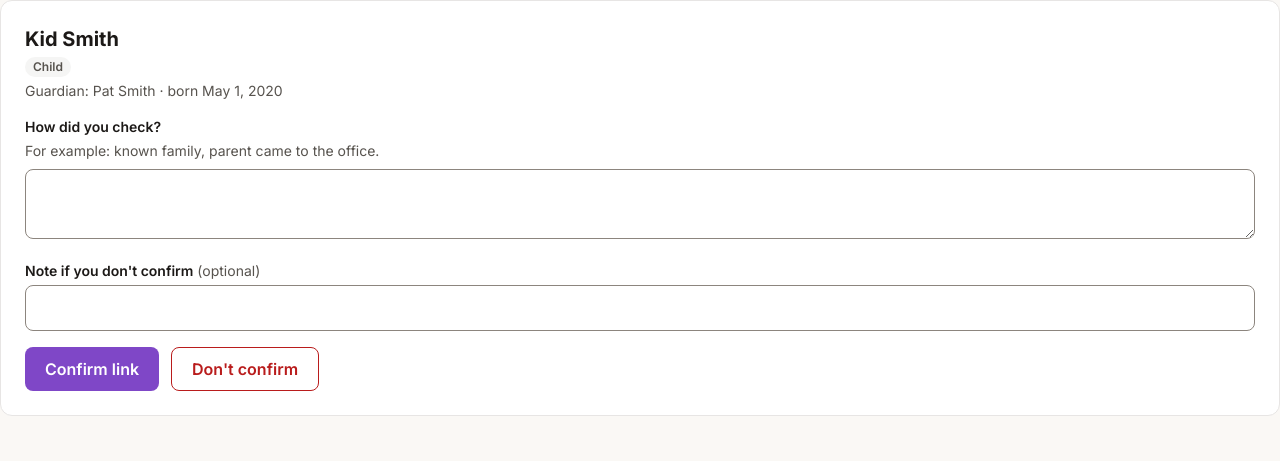
Test case: GuardianLinkCard (M1.9, DEC-32, DEC-79) › shows the self-confirm message and keeps the item
Type "Known family" into the text box labelled "How did you check?" at (640, 204), box [25, 169, 1255, 239]
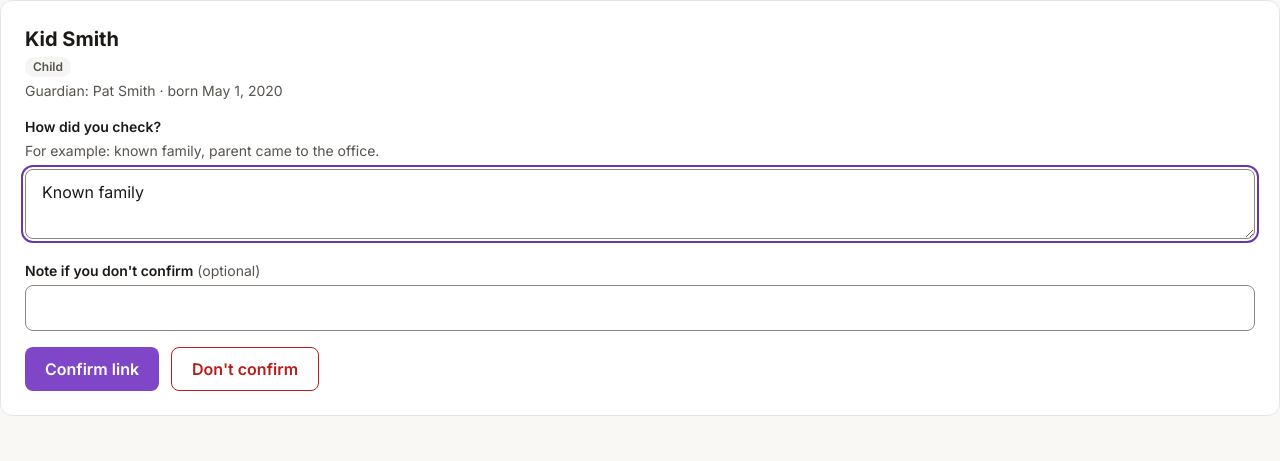
Click the button "Confirm link" at (92, 369), box [25, 347, 159, 391]
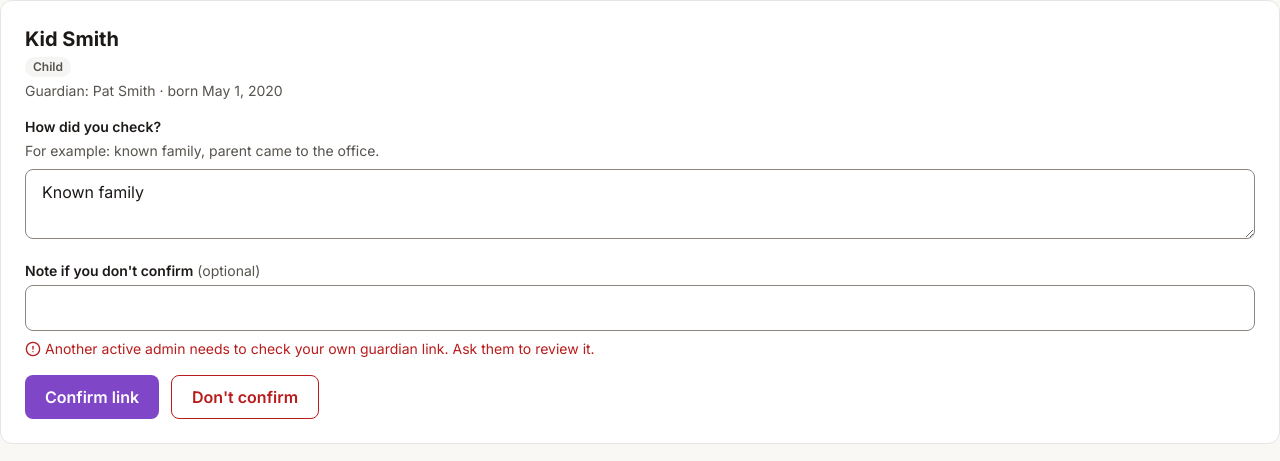
Expected: the text "Another active admin needs to check your own guardian link. Ask them to review it." is shown, [45, 340, 595, 357]
